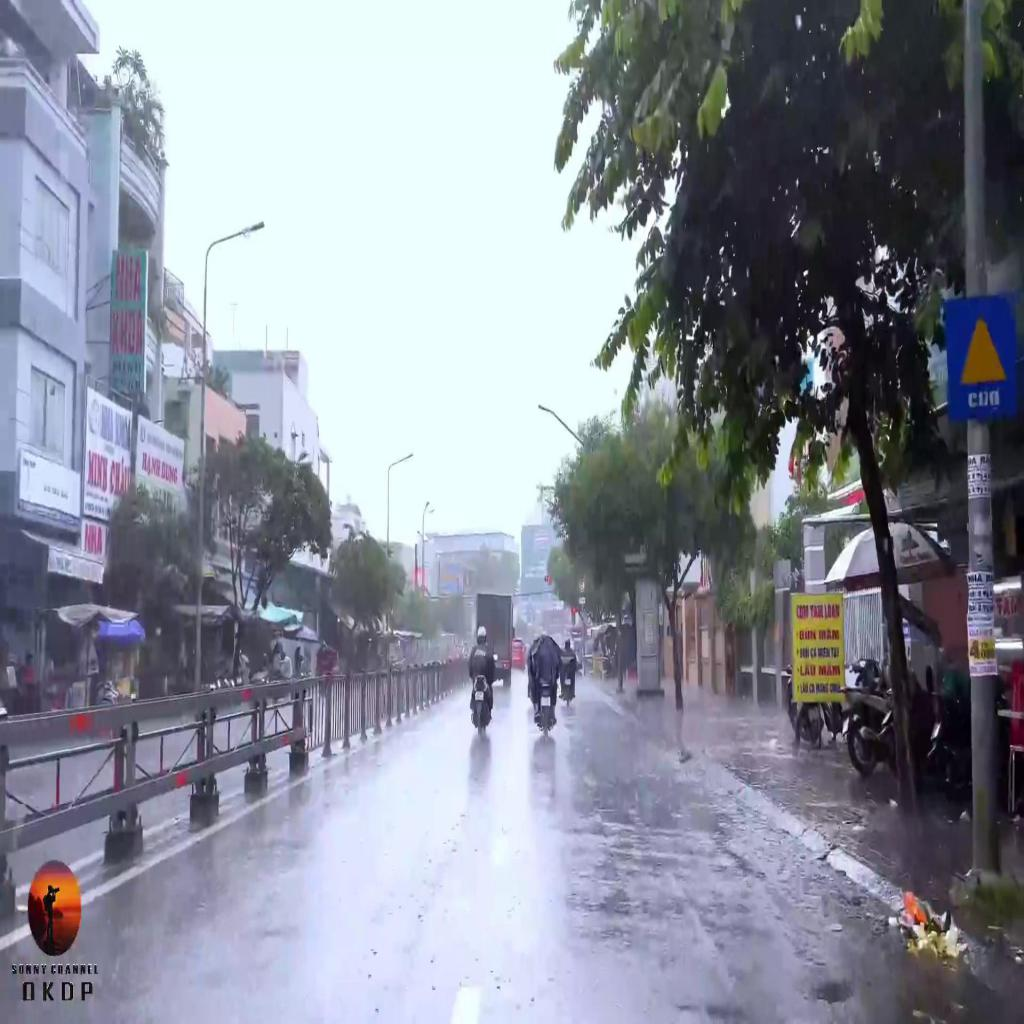cho: (944, 295, 1015, 419)
